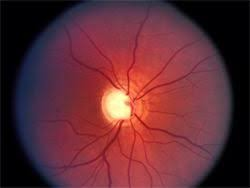Glaucoma section-1: (105, 92, 132, 116)
Glaucoma section-2: (101, 84, 145, 127)
